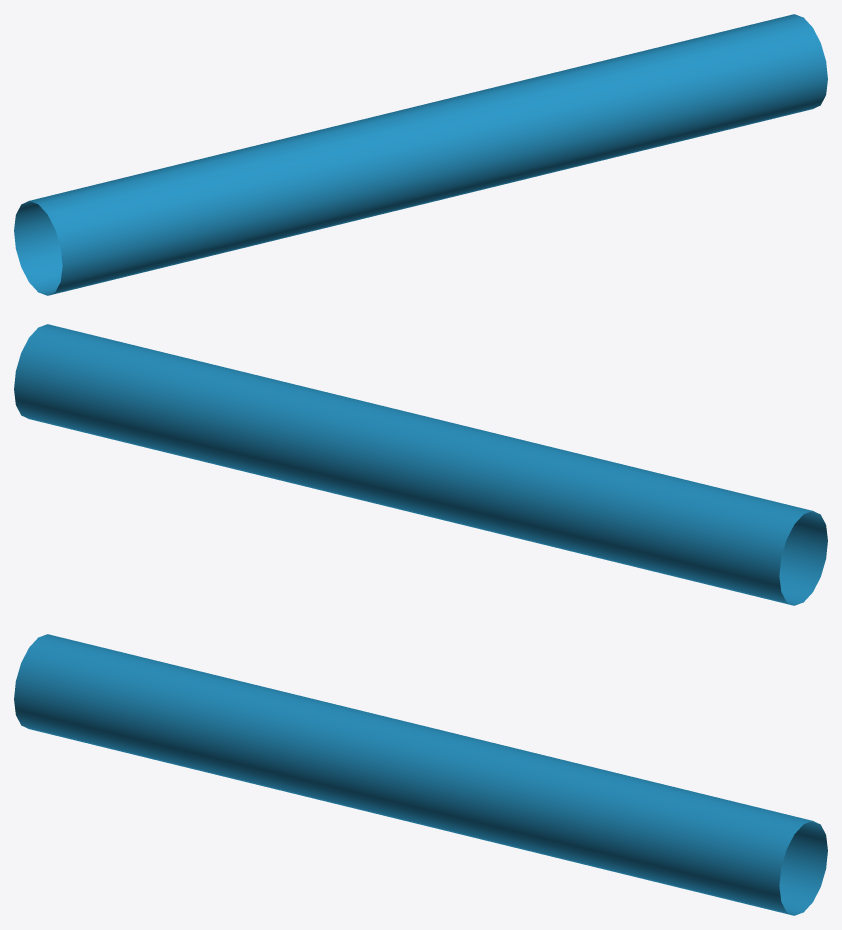
Rendered from SM_Connection_Header.glb.
3 views of the same model, one above another, from view 1: azimuth 30°, elevation 25°; view 2: azimuth 150°, elevation 25°; view 3: azimuth 330°, elevation 25° (orthographic).
Visible parts, largest first — view 1: SM_Connection_Header; view 2: SM_Connection_Header; view 3: SM_Connection_Header.
Boxes of the visible parts, left/top/right/bottom form: SM_Connection_Header: left=14, top=14, right=827, bottom=295; SM_Connection_Header: left=14, top=324, right=827, bottom=605; SM_Connection_Header: left=14, top=634, right=827, bottom=915.
Size of the model in its own units: 1 by 0.11 by 0.11.
